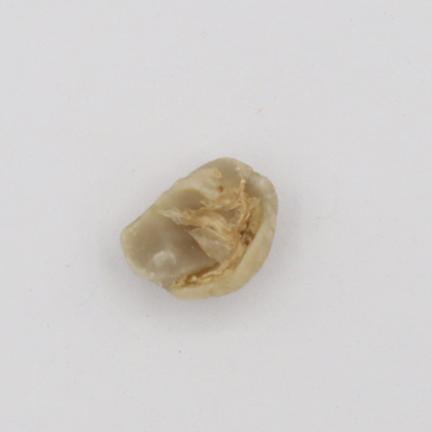shell: (121, 158, 276, 298)
